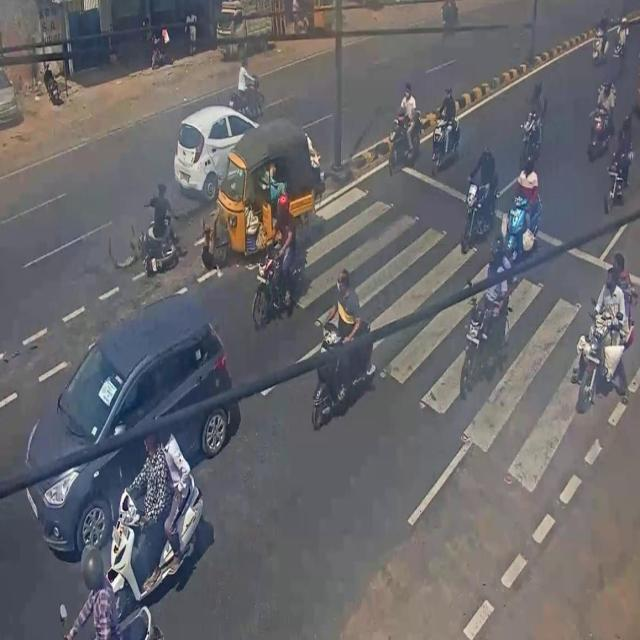accident: (124, 97, 328, 279)
non_accident: (24, 258, 235, 640)
